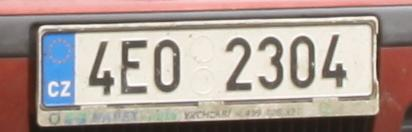0: (154, 40, 181, 91), (291, 35, 315, 87)
2: (226, 38, 251, 90)
3: (258, 37, 283, 90)
4: (88, 41, 113, 95), (323, 35, 346, 88)
E: (121, 40, 148, 94)
